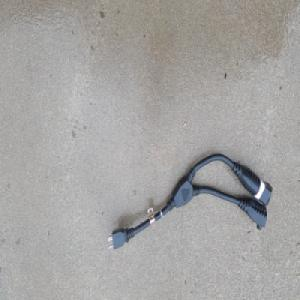Wire: (106, 150, 272, 250)
